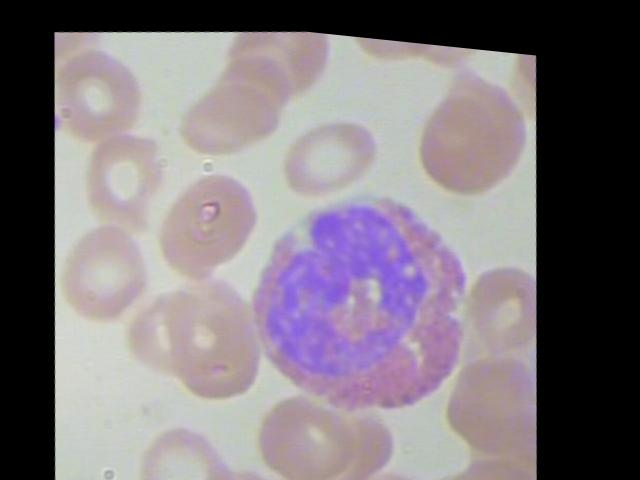Red Blood Cells: (404, 56, 546, 207), (148, 150, 276, 292), (70, 115, 185, 240), (51, 208, 165, 333), (164, 64, 293, 173), (267, 97, 389, 207), (256, 376, 378, 479), (48, 39, 155, 149), (461, 244, 550, 358), (133, 401, 260, 479)
White Blood Cells: (228, 152, 507, 437)
